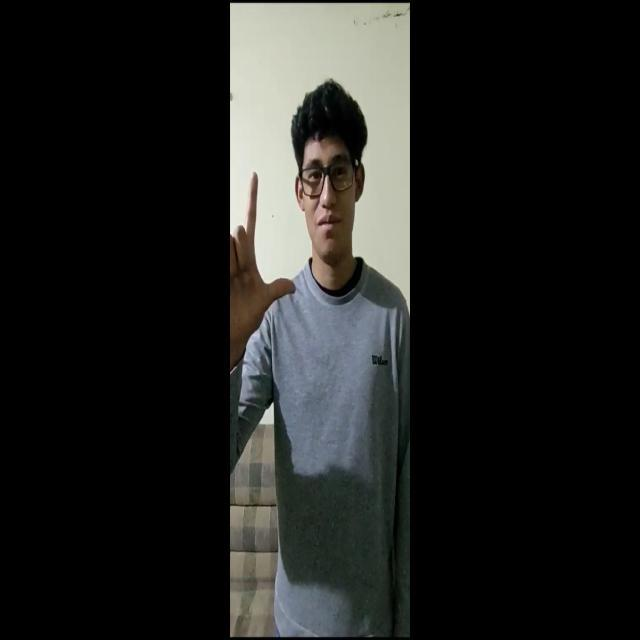L: (230, 176, 306, 348)
